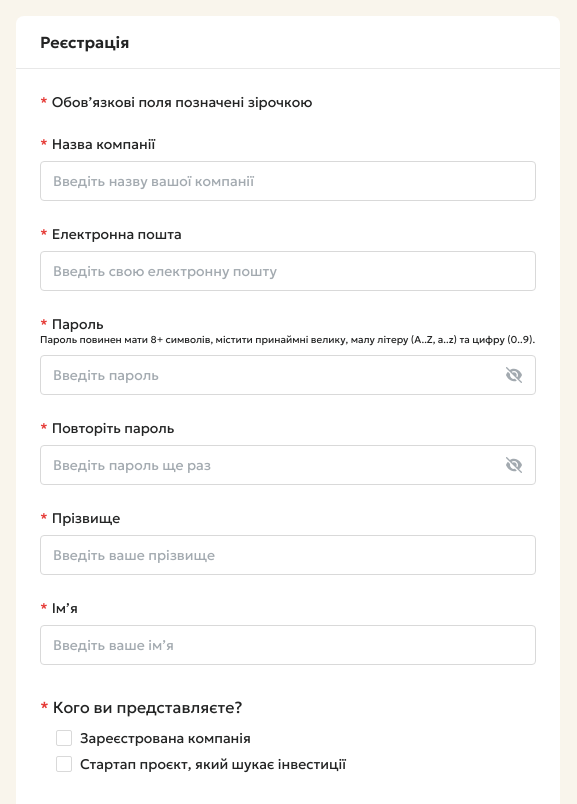
it: Register page › shows a field error only after leaving the field
The image size is (577, 804).
Step 1. Click the field labelled "Назва компанії" → [288, 181], box top-left (40, 161), bottom-right (536, 201)
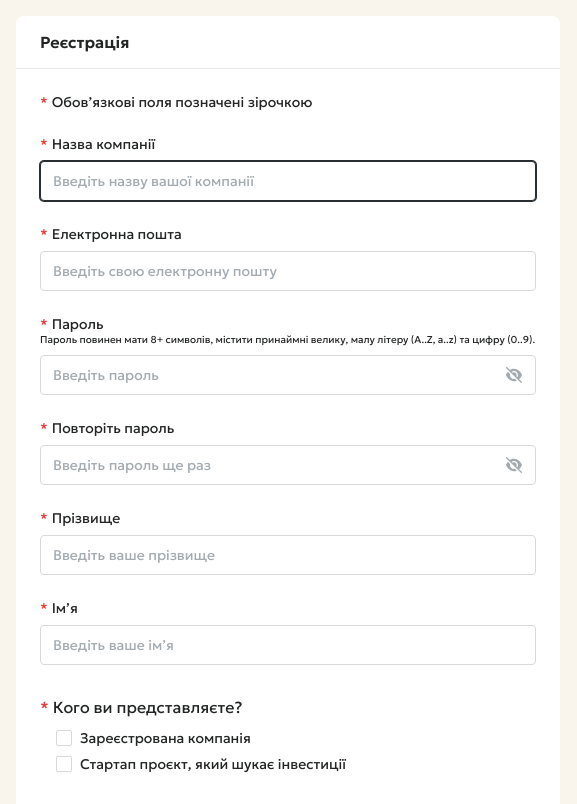
Expected: the text "Не ввели назву компанії" is not shown
Step 2. Press Tab
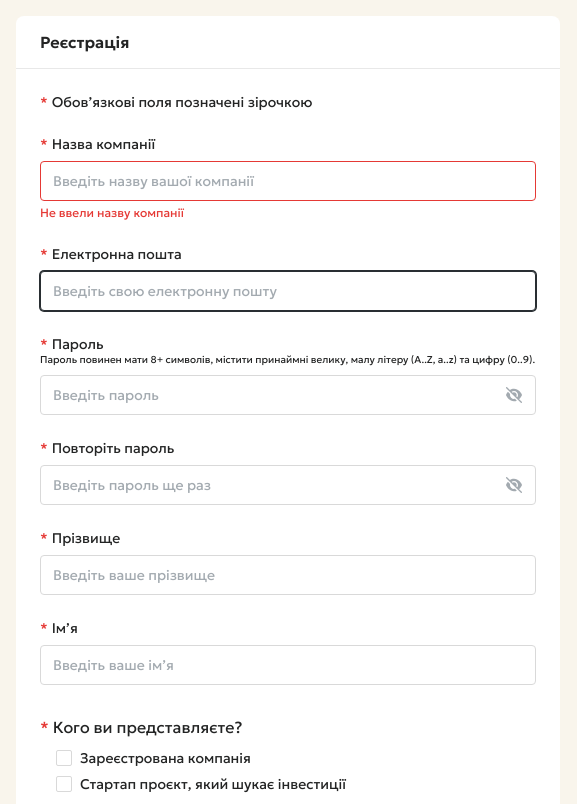
Now the text "Не ввели назву компанії" is shown, box top-left (40, 205), bottom-right (184, 220)
